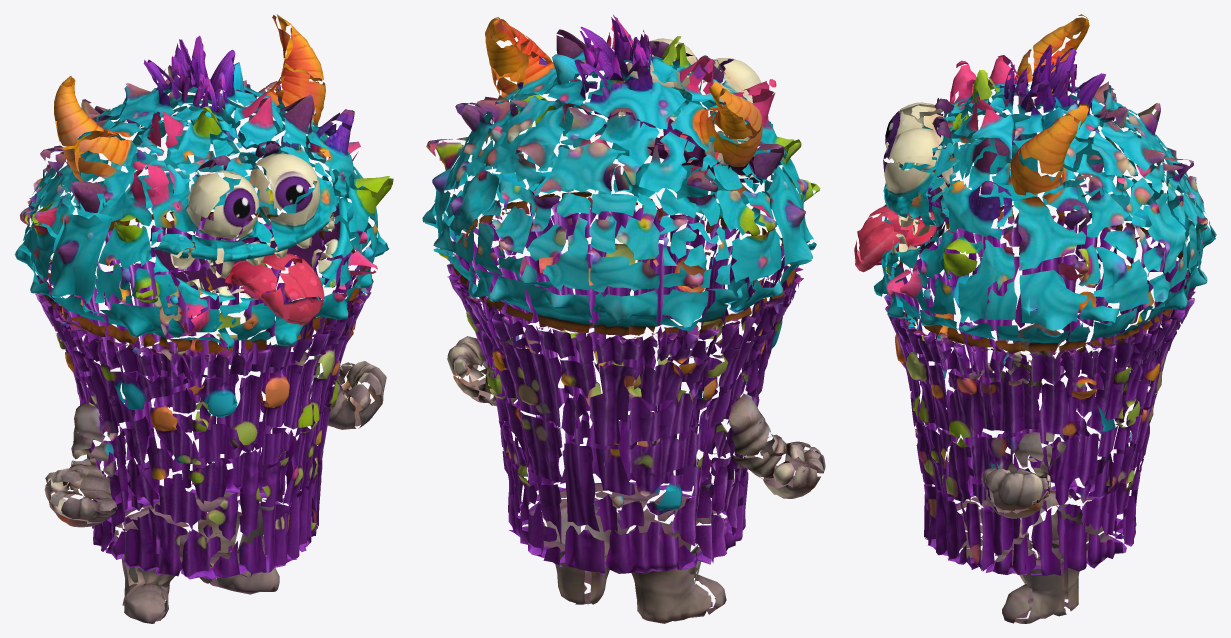
Rendered from cupcake.glb.
3 views of the same model, side by side, from view 1: azimuth 30°, elevation 25°; view 2: azimuth 150°, elevation 25°; view 3: azimuth 270°, elevation 25° (orthographic). The views are drawn at different scales.
Parts seen in each view (by area): view 1: mesh_node; view 2: mesh_node; view 3: mesh_node.
Boxes of the visible parts, left/top/right/bottom form: mesh_node: left=14, top=14, right=393, bottom=623; mesh_node: left=422, top=14, right=825, bottom=623; mesh_node: left=854, top=14, right=1216, bottom=623.
Size of the model in its own units: 1.22 by 1.89 by 1.13.
1 material, 1 textured.
